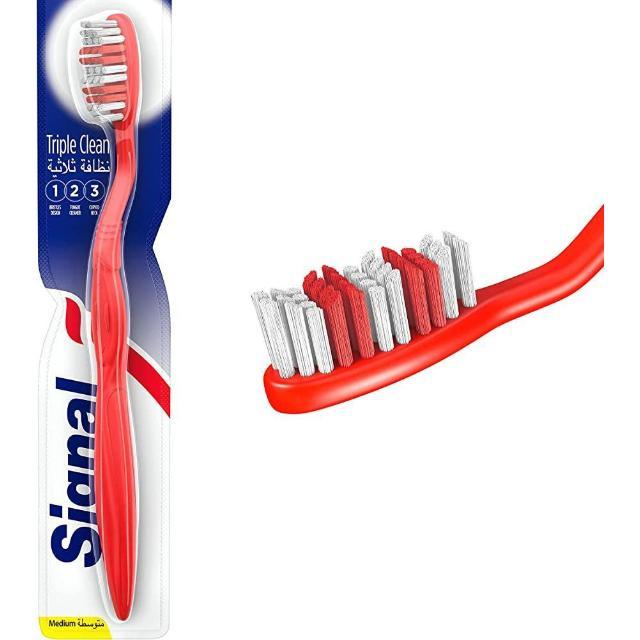toothbrush: (216, 166, 604, 487)
